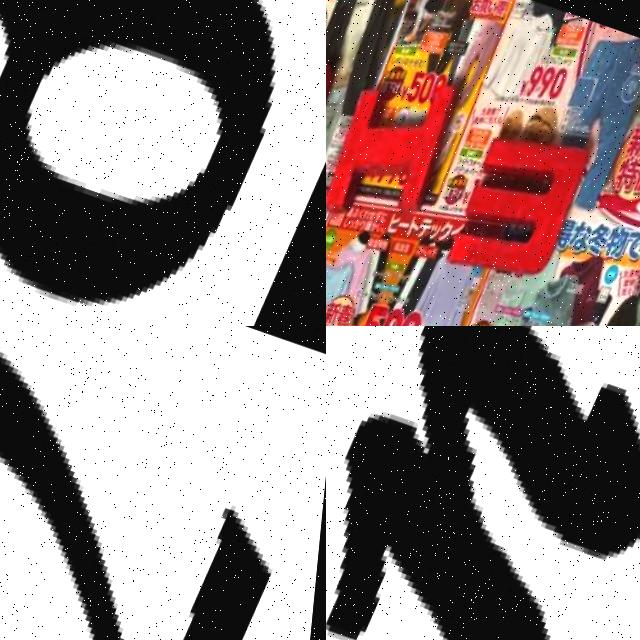2: (0, 326, 326, 640)
8: (0, 0, 326, 326)
I: (326, 73, 466, 230)
N: (326, 326, 640, 640)
W: (445, 112, 600, 290)
